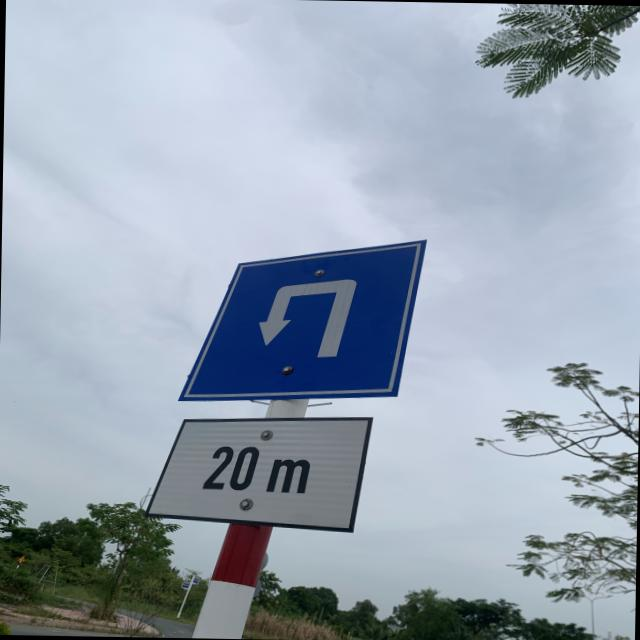Den_Giao_Thong: (174, 235, 430, 402)
